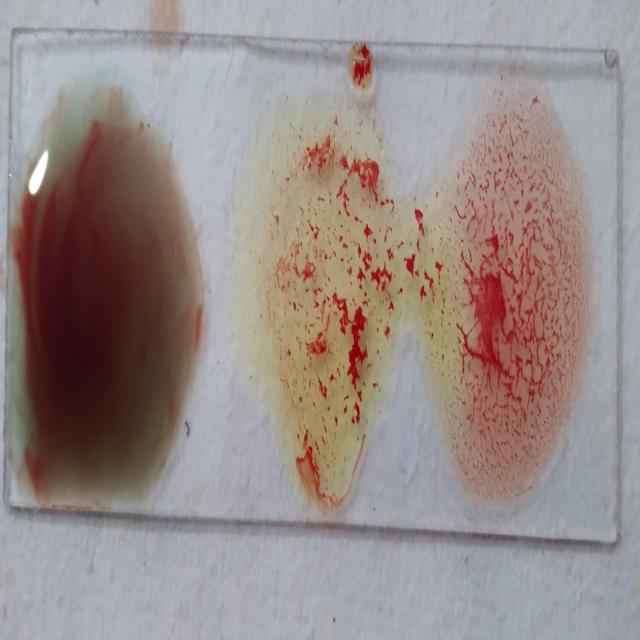B: (251, 96, 407, 515)
D: (457, 83, 583, 505)
